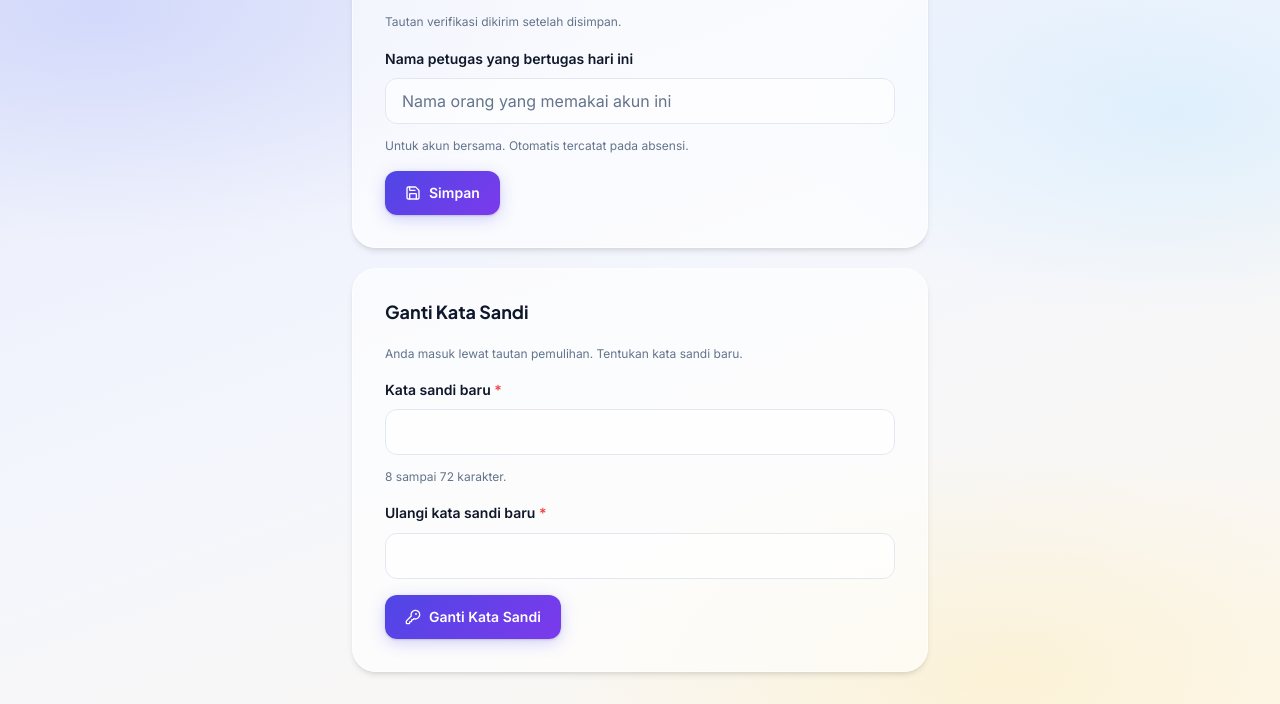
Test case: profil staf › flag wajib-ganti gagal dibersihkan › sesi pemulihan: updateUser berhasil tetapi /api/me/sandi-selesai gagal -> field dikosongkan dan pesan sandi sudah berlaku
(page scrolled)
Type "baru-baru-1234" into the password field labelled "Kata sandi baru".
click(640, 432); type("baru-baru-1234")  # box [385, 409, 895, 455]
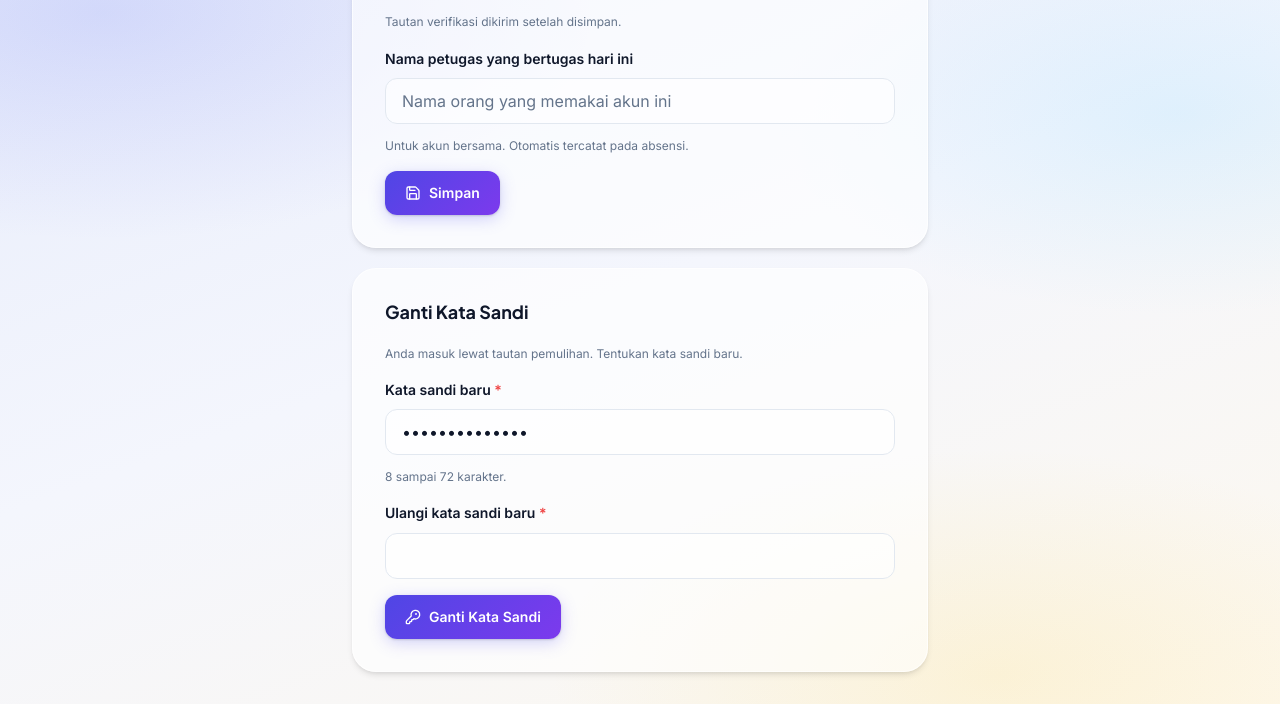
Type "baru-baru-1234" into the password field labelled "Ulangi kata sandi baru".
click(640, 556); type("baru-baru-1234")  # box [385, 533, 895, 579]
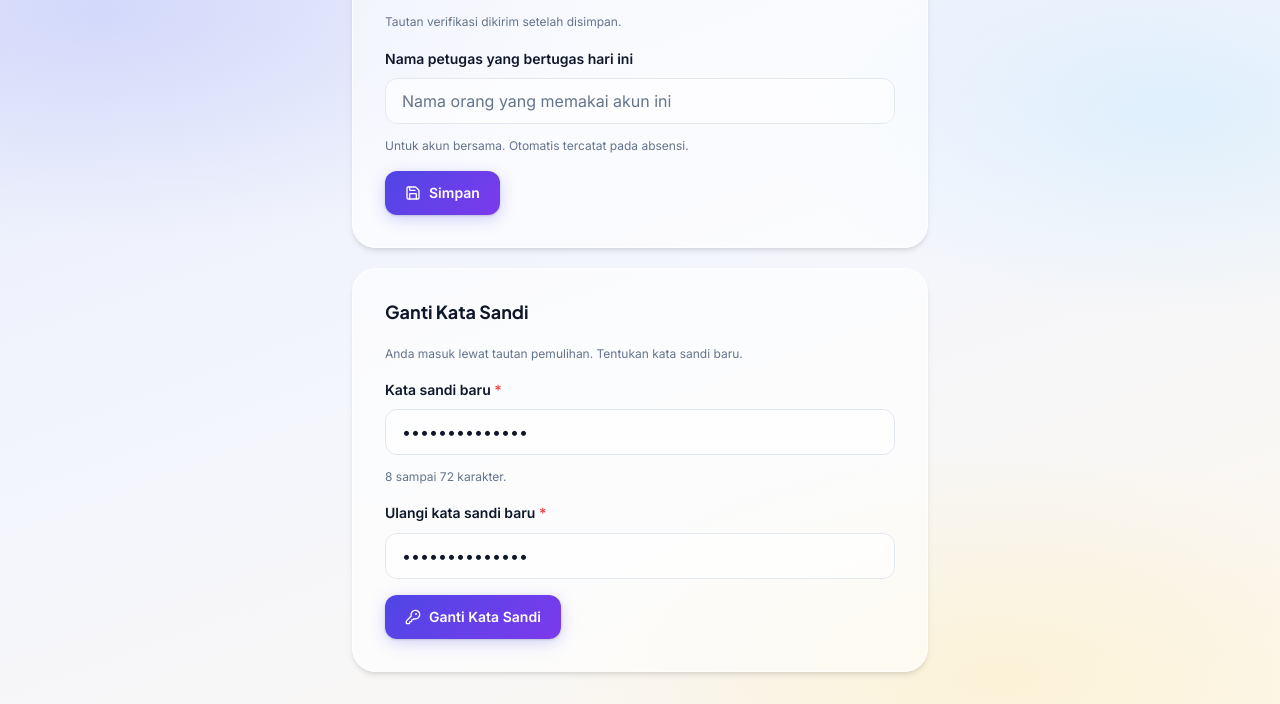
Click the button "Ganti Kata Sandi".
click(473, 617)  # box [385, 595, 561, 639]
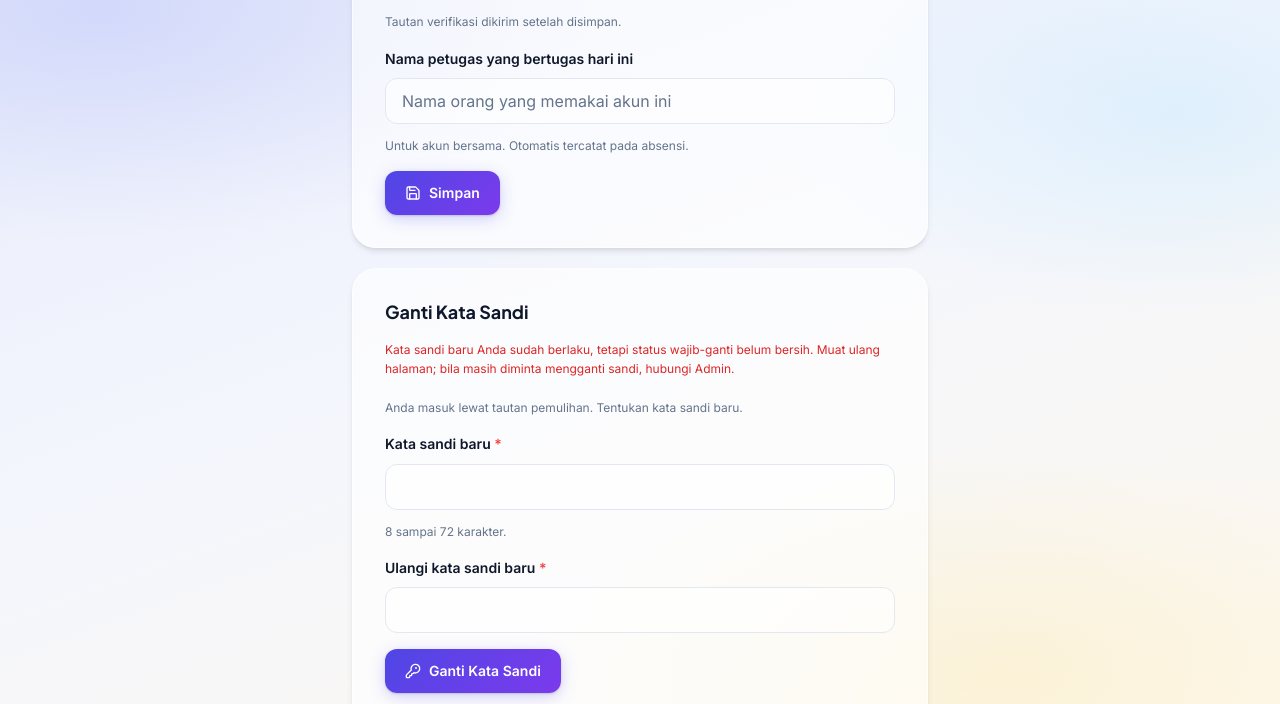
Expected: the text "sudah berlaku" is shown, [385, 342, 880, 376]
Expected: the password field labelled "Kata sandi baru" is empty, [385, 464, 895, 510]
